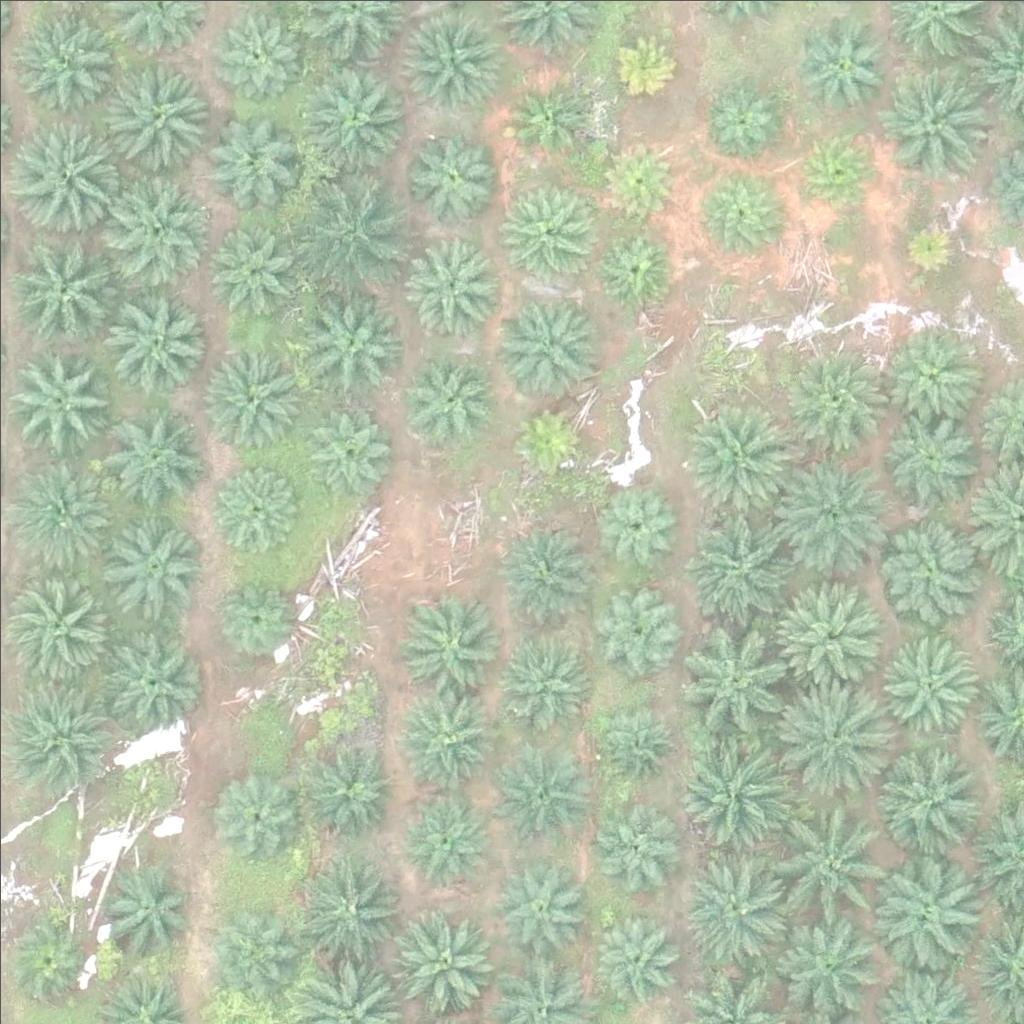Kelapa_Sawit: (772, 673, 885, 787), (99, 169, 212, 282), (296, 288, 409, 401), (295, 165, 408, 278), (674, 852, 787, 965), (678, 733, 791, 846), (685, 617, 798, 730), (878, 848, 991, 961), (7, 114, 119, 228), (101, 46, 213, 160), (687, 501, 799, 615), (683, 397, 795, 511), (781, 340, 893, 454), (378, 902, 490, 1016), (7, 226, 119, 339), (5, 674, 117, 787), (292, 842, 404, 955), (773, 452, 885, 565), (773, 579, 885, 692), (766, 804, 878, 917), (881, 743, 993, 856), (878, 66, 990, 179), (404, 9, 504, 110), (796, 12, 896, 113), (12, 18, 112, 119), (8, 348, 108, 449), (101, 407, 201, 508), (202, 110, 302, 211), (395, 683, 495, 784), (399, 591, 499, 692), (398, 351, 498, 452), (398, 241, 498, 342), (405, 118, 505, 219), (494, 635, 594, 736), (493, 526, 593, 627), (500, 289, 600, 390), (501, 181, 601, 282), (879, 629, 979, 730), (879, 517, 979, 618), (877, 408, 977, 509), (94, 856, 194, 957), (208, 5, 308, 105), (11, 462, 111, 562), (7, 586, 107, 686), (99, 630, 199, 730), (109, 506, 209, 606), (108, 293, 208, 393), (300, 68, 400, 168), (198, 225, 298, 325), (199, 349, 299, 449), (487, 862, 587, 962), (492, 733, 592, 833), (877, 323, 977, 423), (212, 469, 300, 558), (502, 398, 590, 486), (694, 170, 782, 258), (694, 78, 782, 166), (596, 138, 684, 226), (588, 227, 676, 315), (213, 767, 301, 855), (306, 407, 394, 495), (401, 800, 489, 888), (593, 482, 681, 570), (589, 590, 677, 678), (794, 128, 881, 216), (211, 572, 298, 660), (306, 744, 393, 832), (504, 78, 591, 166), (592, 698, 679, 786), (592, 803, 679, 891), (209, 917, 296, 1005), (589, 915, 676, 1003), (7, 926, 82, 1002), (604, 28, 679, 104), (901, 212, 964, 275)
